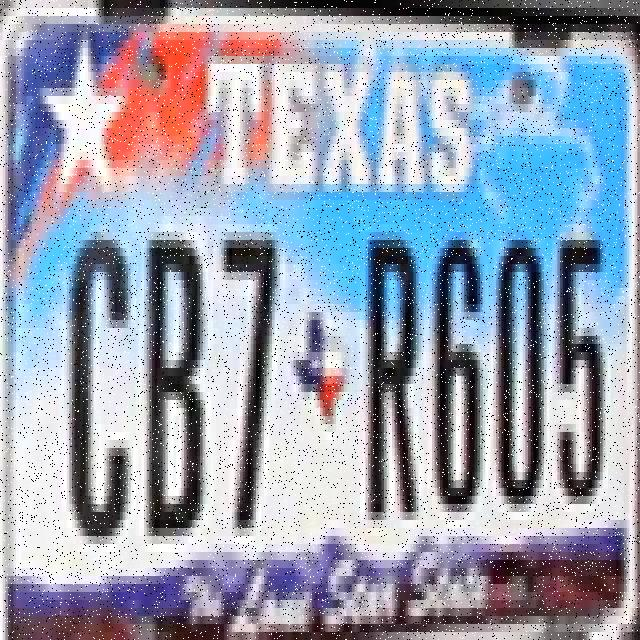licenseplate: (1, 3, 636, 634)
